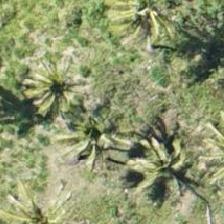coconut_tree: (15, 43, 105, 133), (56, 84, 146, 174), (119, 124, 209, 214), (108, 0, 198, 66)
